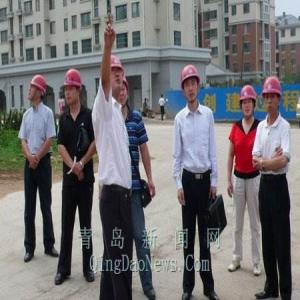red: (262, 74, 284, 119), (180, 63, 202, 105), (64, 68, 84, 109), (239, 84, 259, 121), (106, 54, 124, 95), (28, 75, 47, 109)
